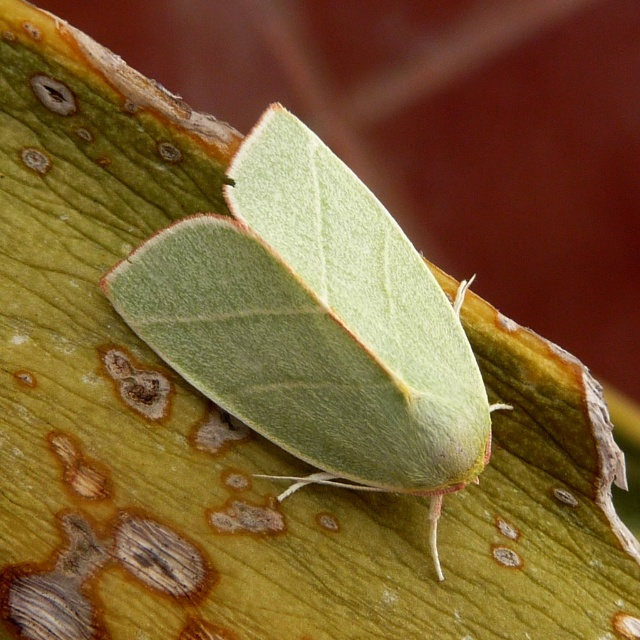Moths and butterflies: (92, 97, 517, 583)
